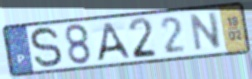2: (126, 16, 159, 60), (160, 15, 188, 56)
8: (63, 22, 93, 66)
A: (95, 21, 133, 63)
N: (189, 10, 223, 54)
S: (29, 25, 65, 70)
